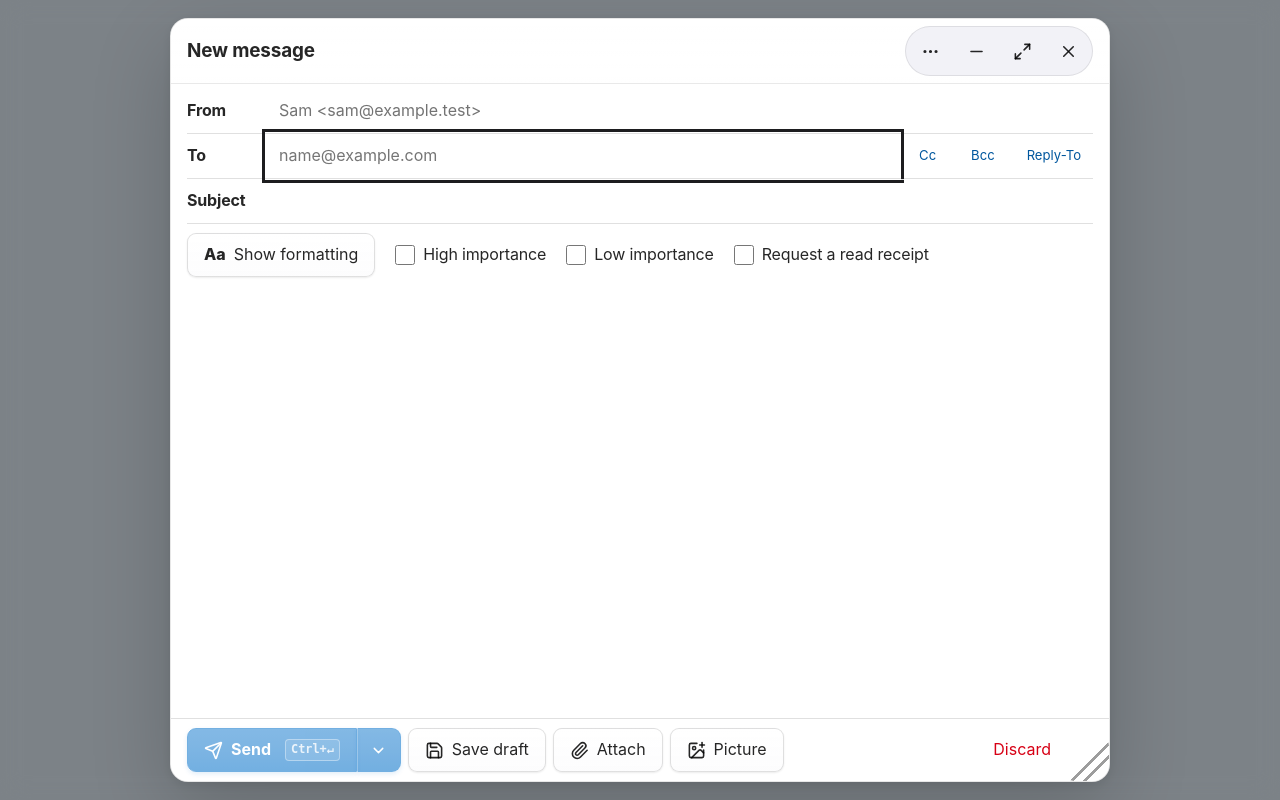
product context menu › offers composer cut and copy
Step 1. Right-click the field named "Message body" → x=640, y=500, box [171,281,1109,718]
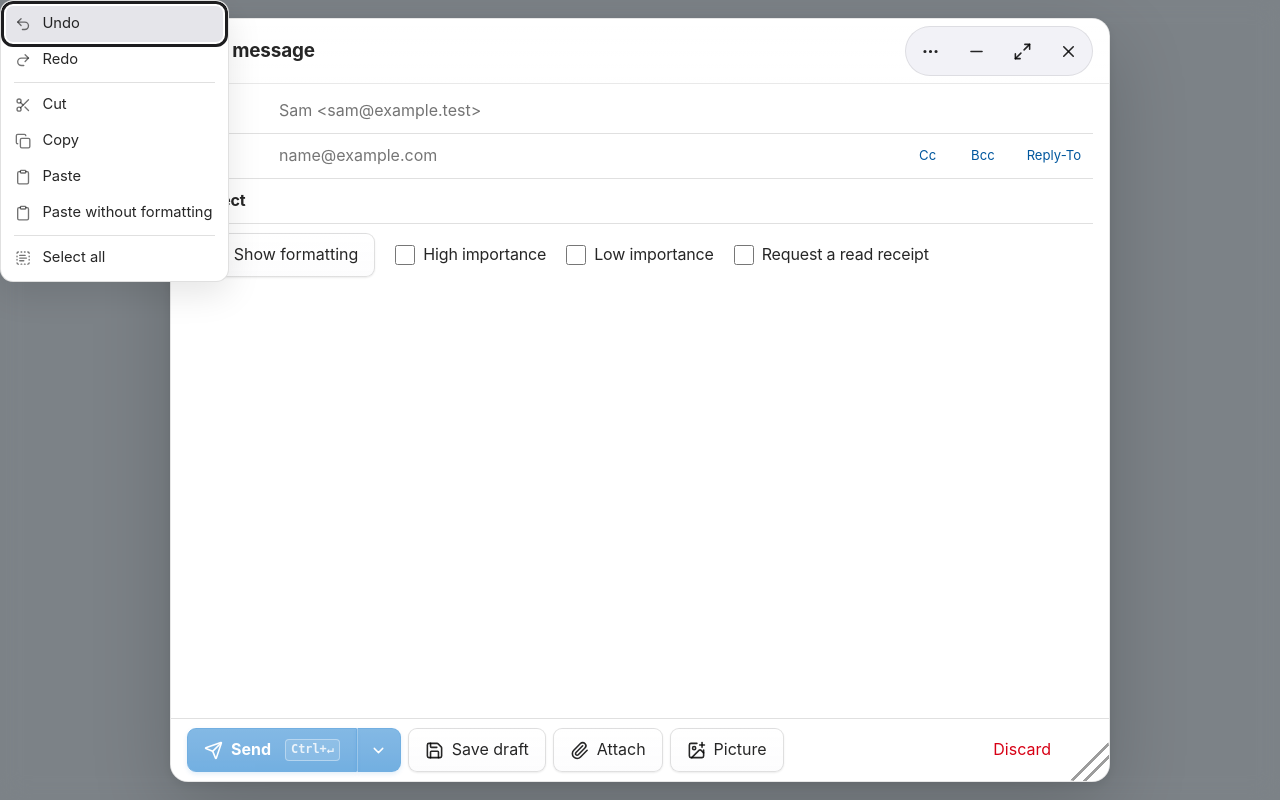
Expected: the menu item "Cut" is shown, [6,87,222,123]
Expected: the menu item "Copy" is shown, [6,123,222,159]
